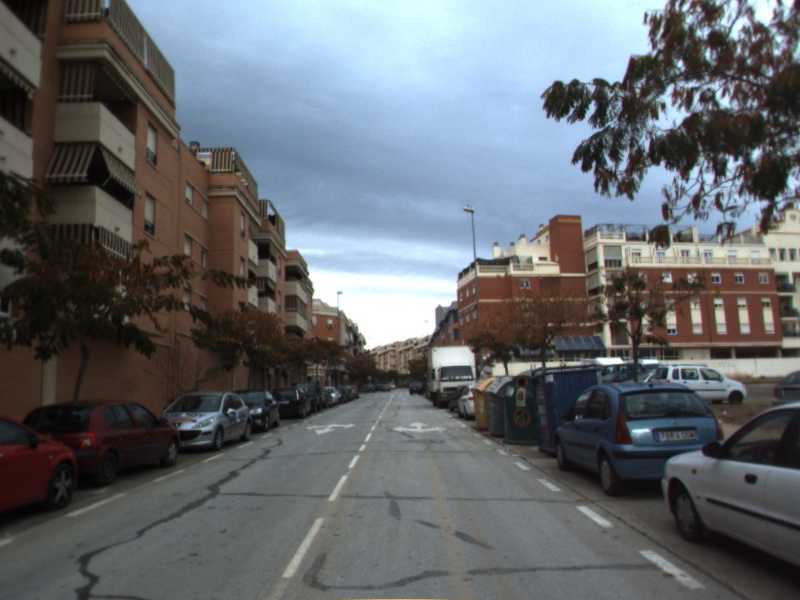STRAIGHT_LEFT_RIGHT: (391, 420, 449, 435)
